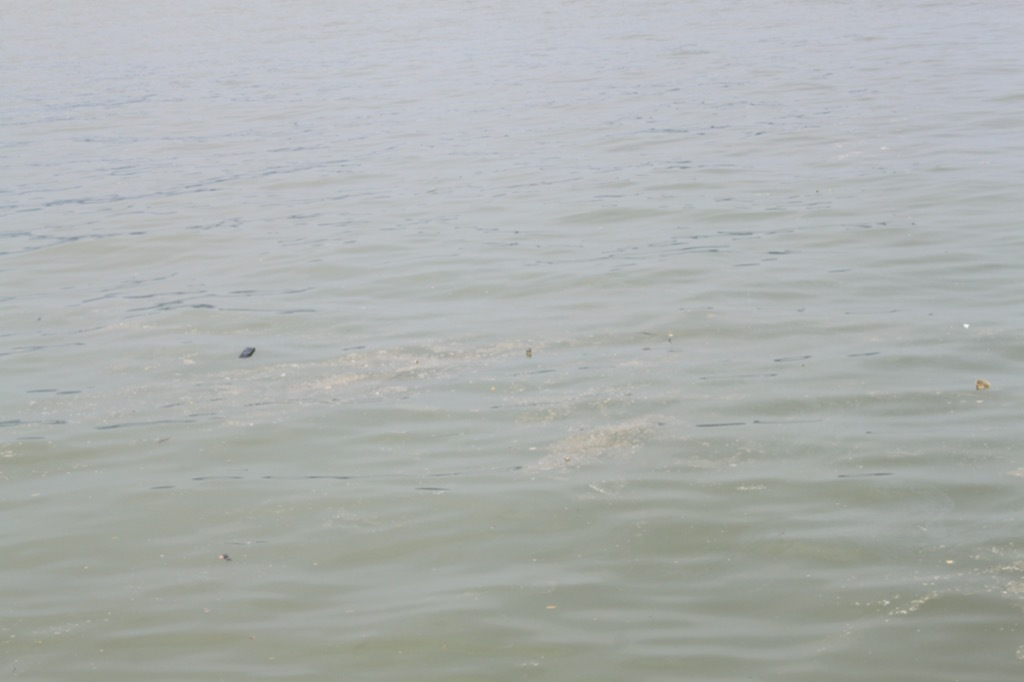organic: (207, 543, 245, 572)
plastic: (963, 365, 1010, 407), (229, 333, 266, 372), (513, 341, 543, 367), (957, 315, 982, 339)
